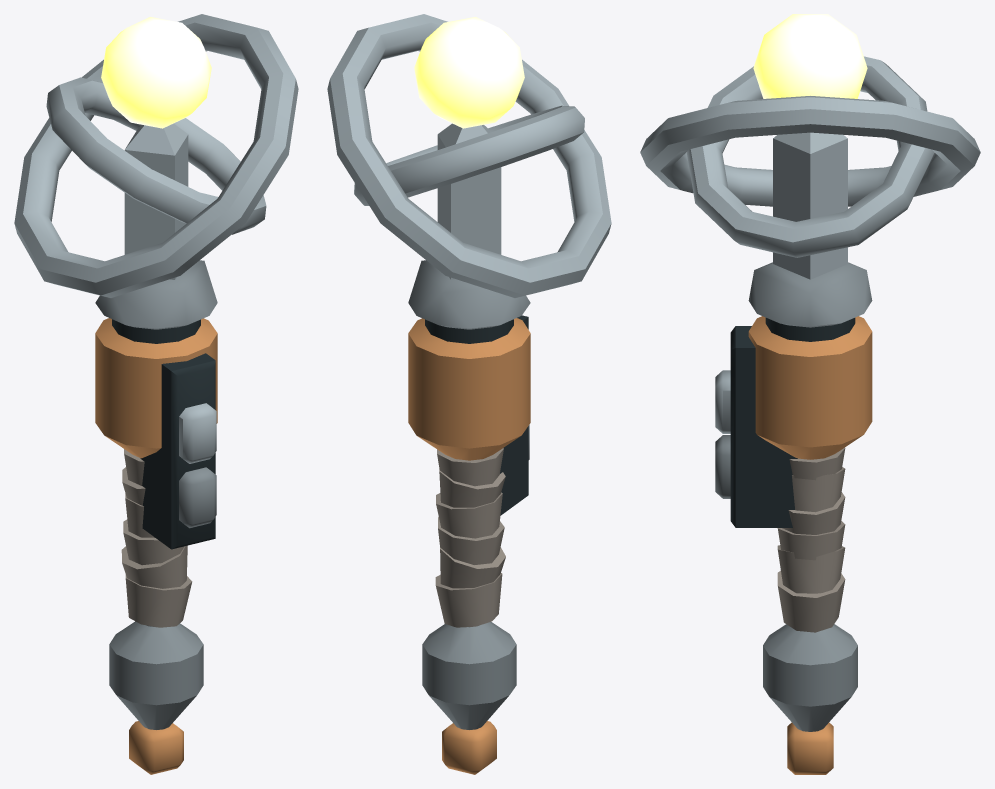
File: scrap_baton.gltf.glb
The picture shows the model from 3 angles, left to right: view 1: azimuth 30°, elevation 25°; view 2: azimuth 150°, elevation 25°; view 3: azimuth 270°, elevation 25°; orthographic projection.
Visible parts, largest first — view 1: scrap_baton; view 2: scrap_baton; view 3: scrap_baton.
Boxes of the visible parts, box(x1,y1,x2,y2) form: scrap_baton: box(14, 14, 298, 774); scrap_baton: box(327, 14, 611, 774); scrap_baton: box(640, 14, 980, 774).
Bounding box in the file's own units: 0.3109 × 0.9541 × 0.3918.
